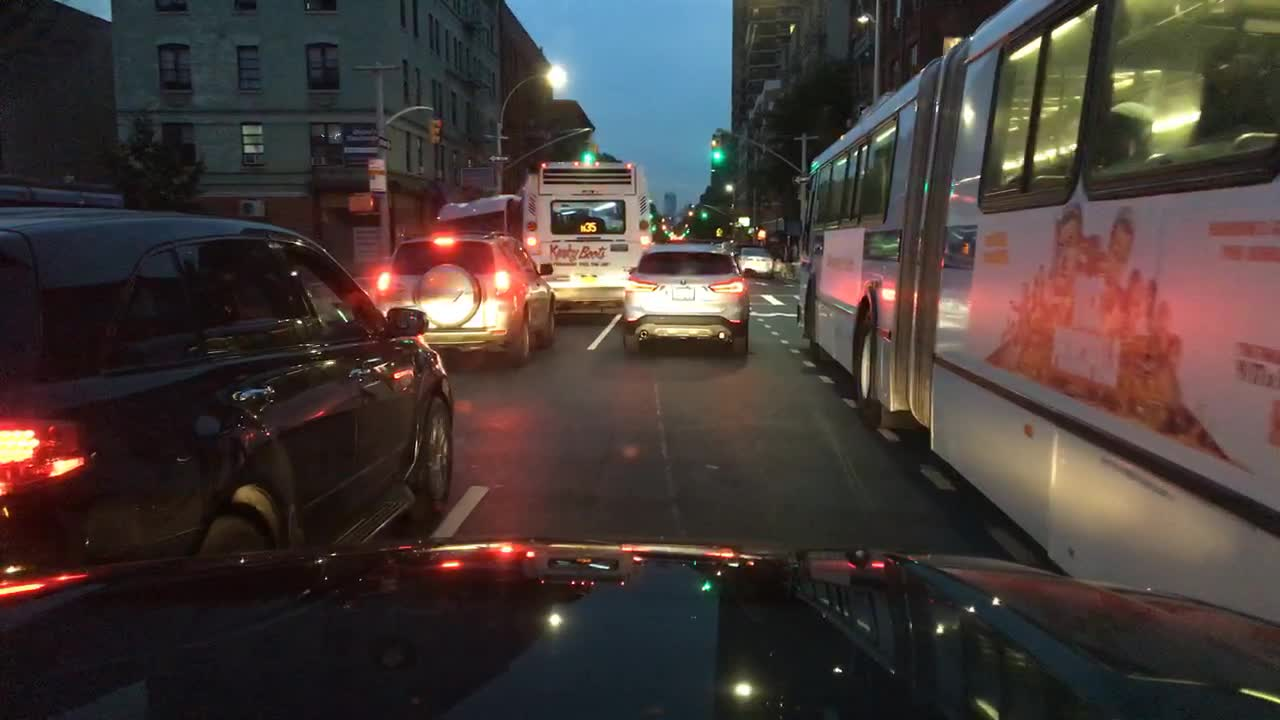bus: (798, 1, 1279, 620), (517, 152, 655, 321)
car: (0, 206, 457, 579), (369, 230, 558, 368), (622, 237, 750, 357), (433, 192, 521, 239), (733, 245, 774, 278)
traffic light: (344, 191, 377, 215), (430, 118, 444, 147), (710, 136, 725, 163), (580, 148, 598, 162), (758, 227, 770, 242), (699, 209, 707, 219), (682, 228, 691, 236), (663, 229, 670, 237)
traffic sign: (348, 223, 391, 267), (342, 127, 378, 161), (457, 165, 494, 196), (367, 159, 387, 194), (376, 135, 394, 151), (484, 131, 509, 141), (732, 215, 752, 227), (489, 154, 510, 162), (715, 223, 723, 239)
